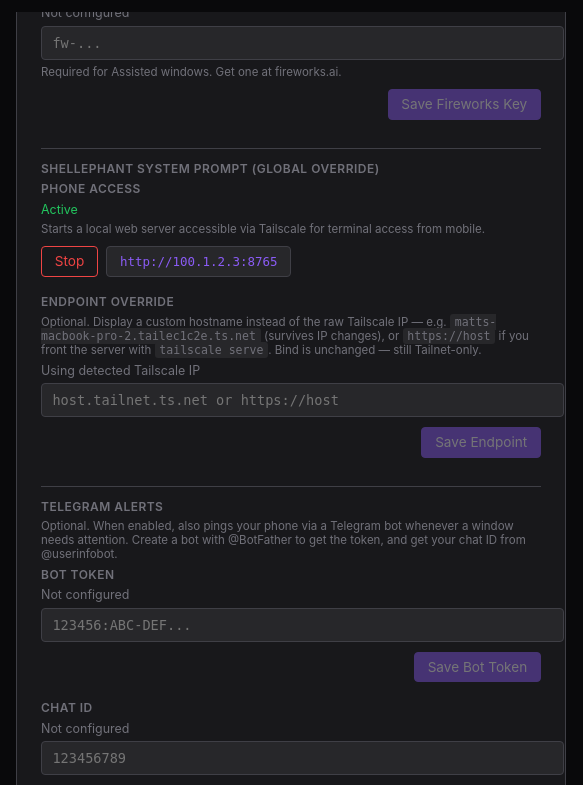
Scenario: SettingsView › Phone Access section › stops server and hides URL on second click
Expected: the button titled "http://100.1.2.3:8765" is shown, left=106, top=246, right=291, bottom=277
Click the button with aria-label "Phone Access". click: {"x": 70, "y": 262}
box: left=41, top=246, right=98, bottom=277
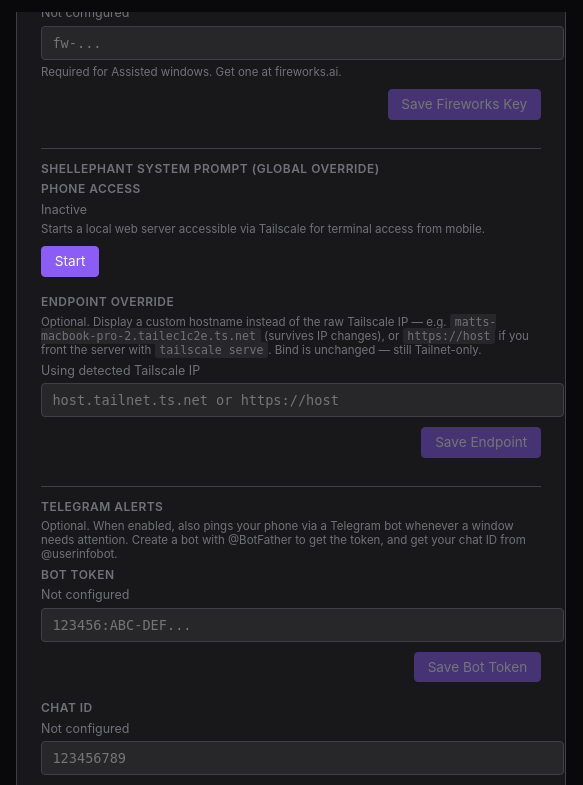
Expected: the button titled "http://100.1.2.3:8765" is gone
